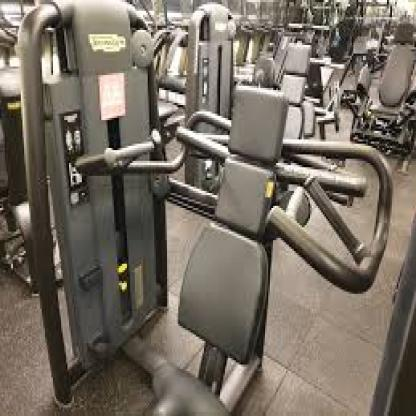shoulder press machine: (14, 0, 395, 416)
